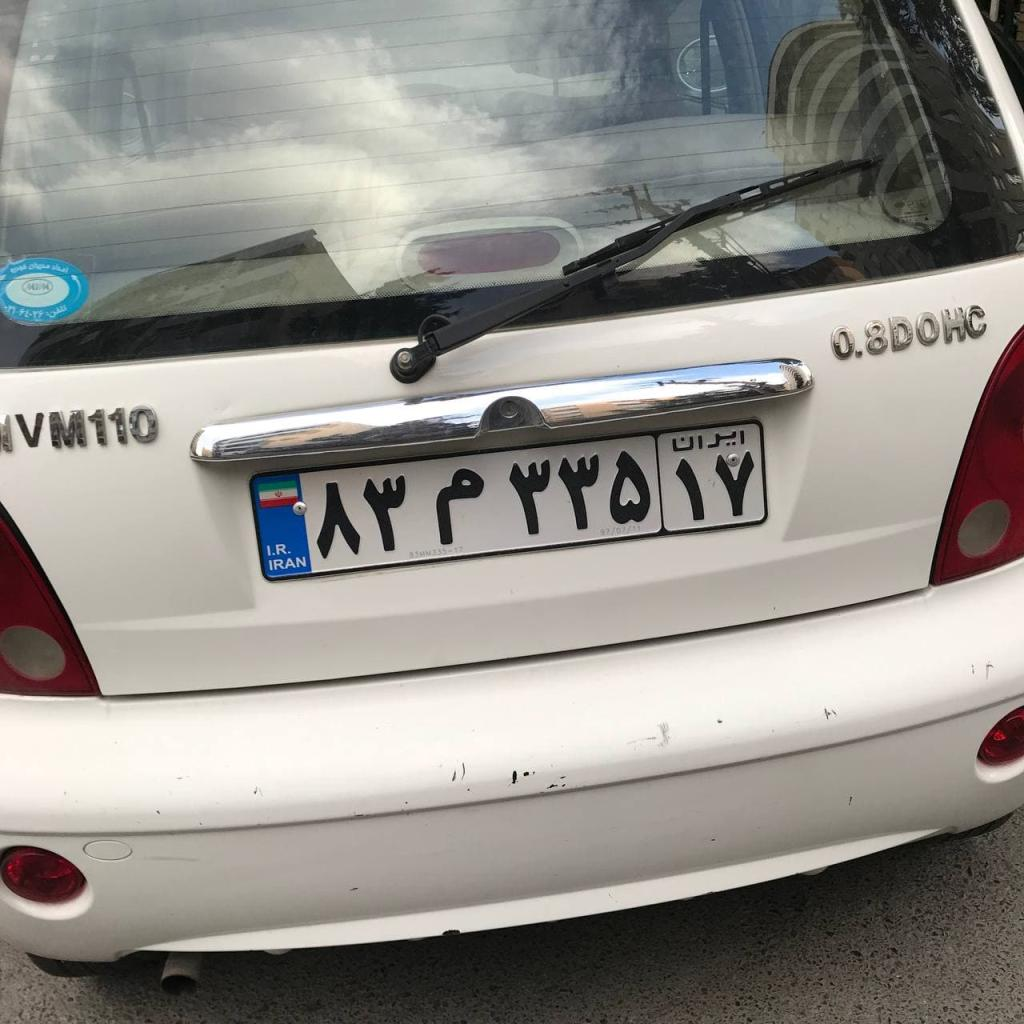Plates: (251, 422, 767, 581)
